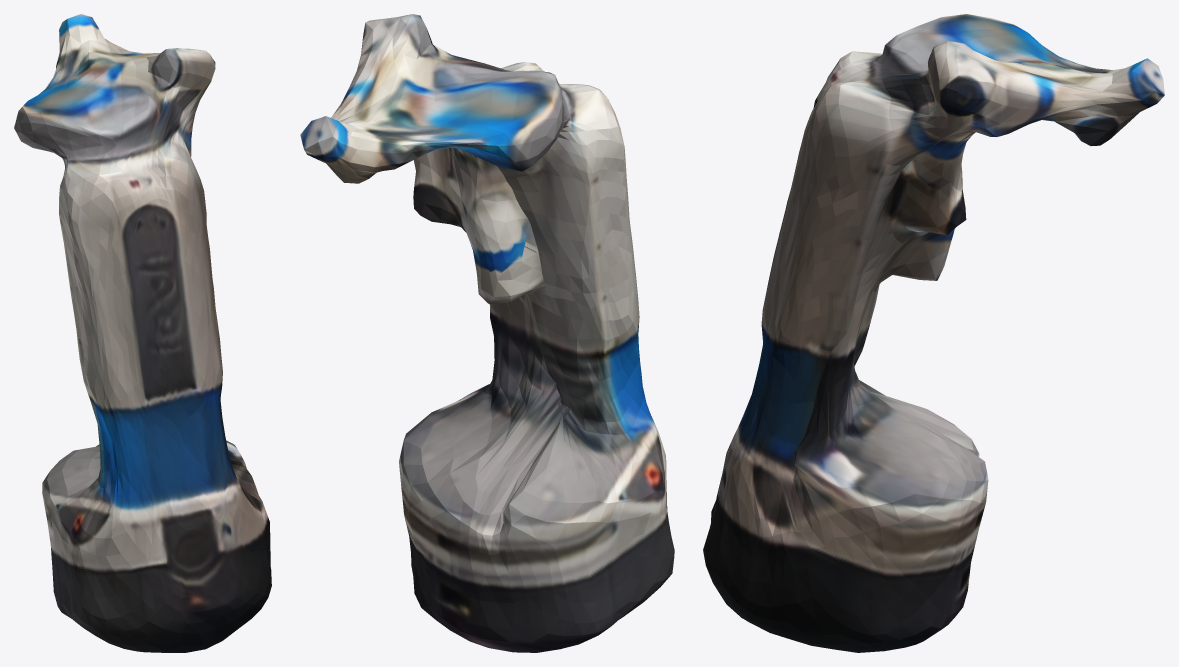
Rendered from robot.gltf.
3 renders of one model, left to right at view 1: azimuth 30°, elevation 25°; view 2: azimuth 150°, elevation 25°; view 3: azimuth 270°, elevation 25°, orthographic. The views are drawn at different scales.
Parts seen in each view (by area): view 1: Node; view 2: Node; view 3: Node.
Boxes of the visible parts, left/top/right/bottom form: Node: left=14, top=14, right=271, bottom=652; Node: left=300, top=14, right=674, bottom=652; Node: left=703, top=14, right=1164, bottom=652.
Bounding box in the file's own units: 0.5902 × 1.55 × 1.03.
Materials: 1 (1 with a texture image).
